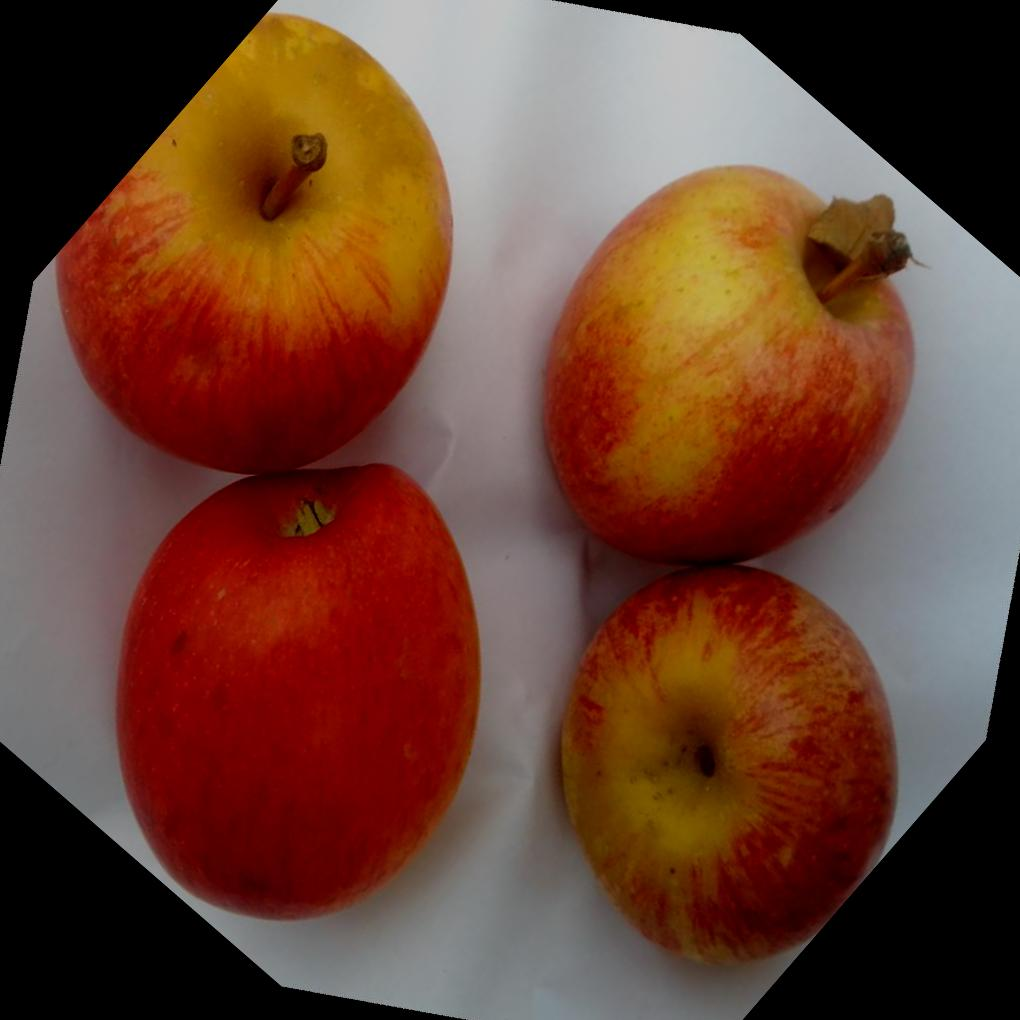FreshGuava: (50, 14, 479, 923), (541, 167, 914, 970)
